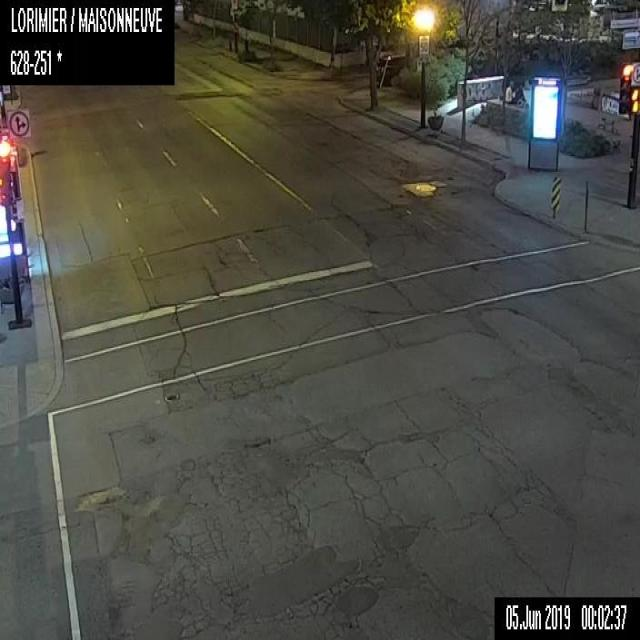vehicle: (374, 51, 406, 87)
